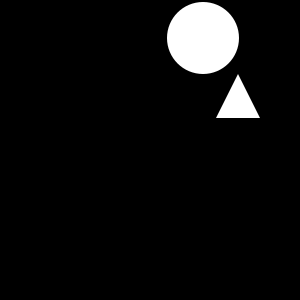rectangle: (167, 2, 239, 74)
triangle: (216, 74, 260, 118)
